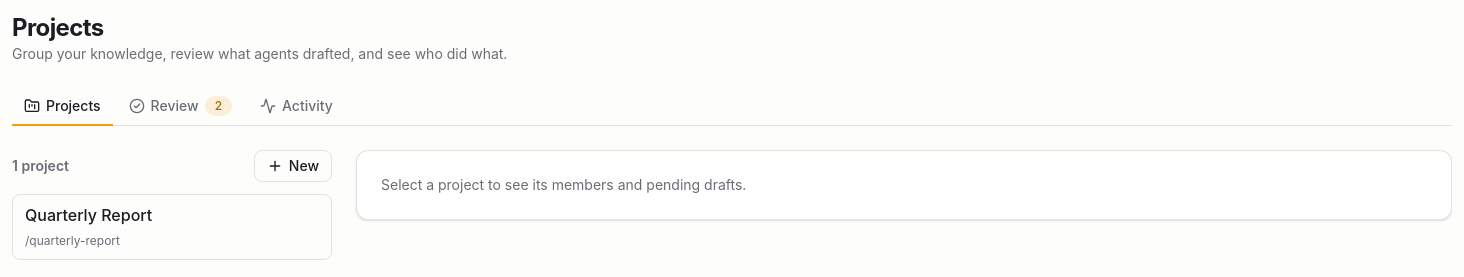
Test: ProjectsPage › shows attributed activity on the Activity tab
Click the button "Activity" at {"x": 296, "y": 107}, box [248,88,345,126]
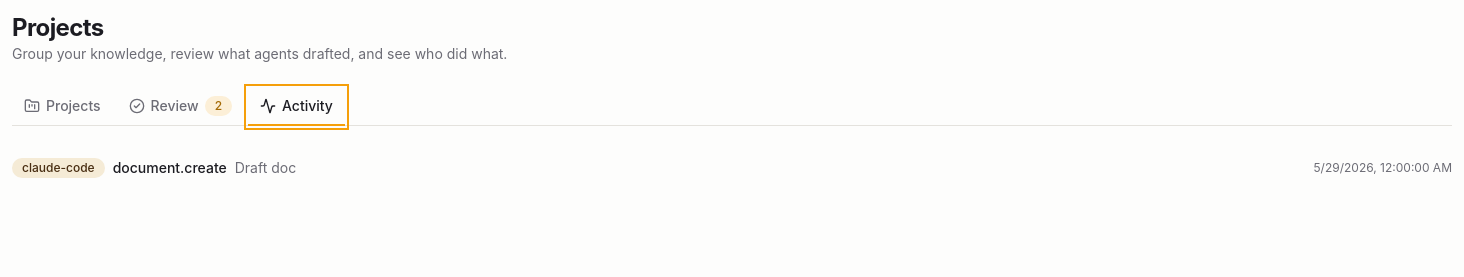
Result: the text "document.create" is shown at [113,158,227,178]
Result: the text "claude-code" is shown at [12,158,105,178]
